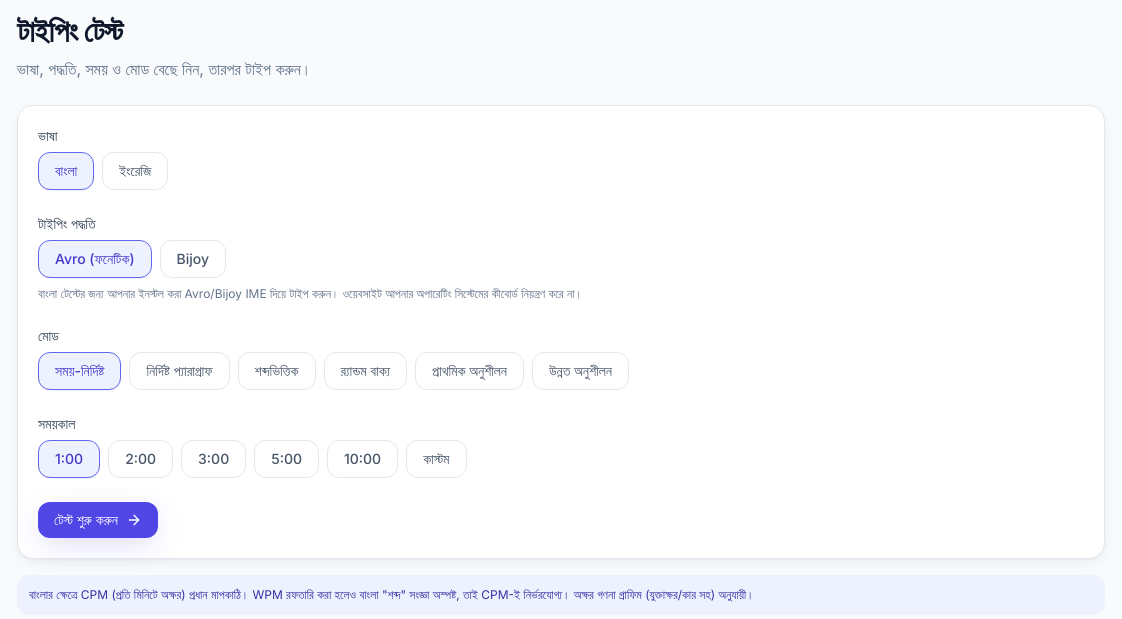
Test: TypingTest timing and saving › derives elapsed time from the wall clock, surviving skipped interval ticks
Click the button "টেস্ট শুরু করুন": (98, 520) [38,502,158,538]
Wait 1200 ms
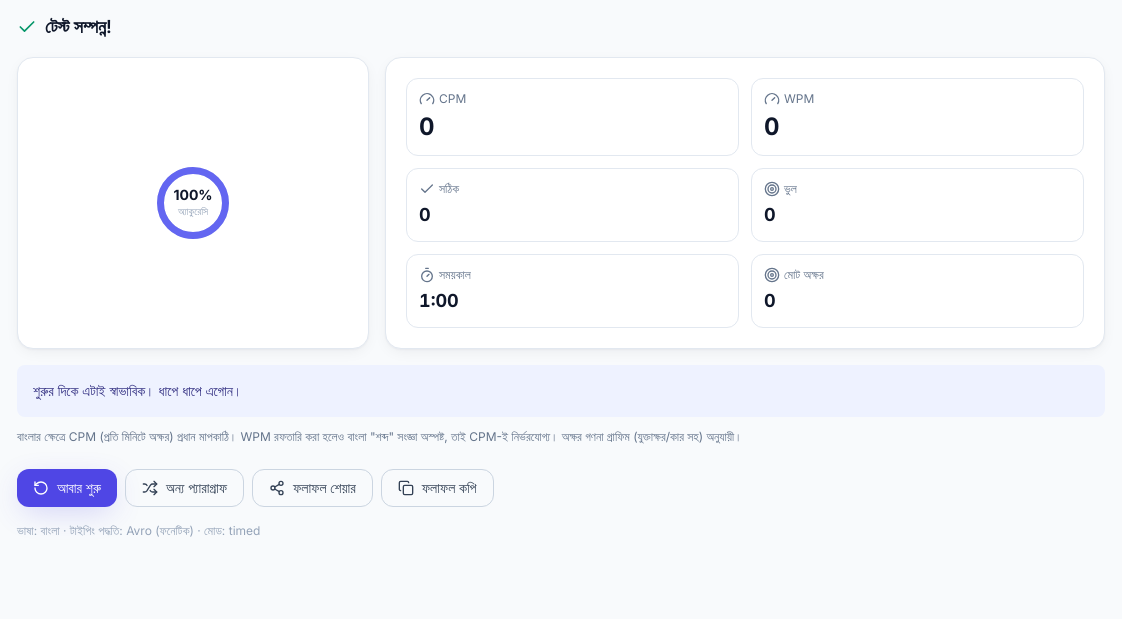
Expected: the text "টেস্ট সম্পন্ন!" is shown, [17,16,112,37]
